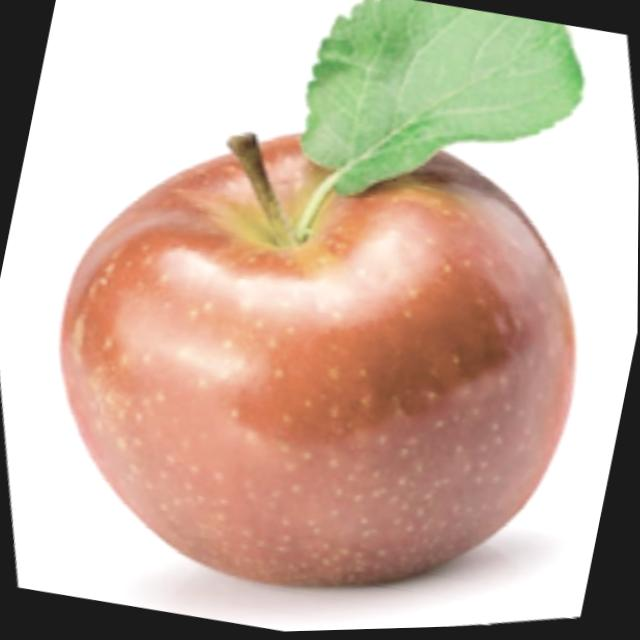organik: (15, 51, 640, 640)
